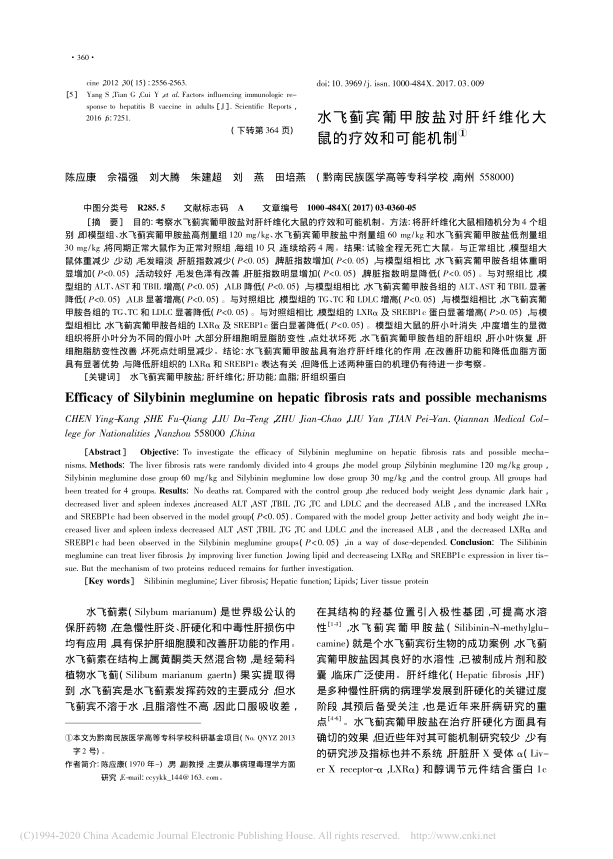Header: (69, 51, 97, 61)
Reference: (64, 77, 299, 137), (62, 732, 295, 782)
Text: (63, 202, 550, 380), (64, 446, 553, 587), (317, 606, 550, 775), (65, 606, 295, 711), (64, 413, 549, 438), (64, 171, 518, 182), (316, 77, 484, 88), (230, 126, 293, 134)
Title: (316, 110, 549, 144), (64, 391, 548, 404)
